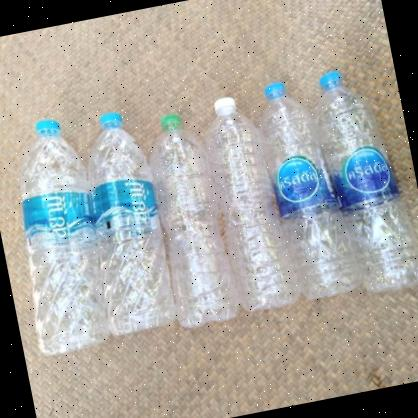bottle: (1, 113, 118, 358), (307, 60, 418, 297), (74, 100, 180, 339), (252, 75, 351, 306), (144, 107, 243, 328), (200, 93, 293, 316)
cap: (98, 107, 125, 130), (317, 68, 343, 91), (34, 116, 61, 138), (263, 80, 288, 100), (158, 114, 183, 131), (214, 97, 236, 114)
label: (328, 143, 404, 213), (20, 186, 97, 254), (91, 173, 162, 246), (268, 148, 332, 216)
